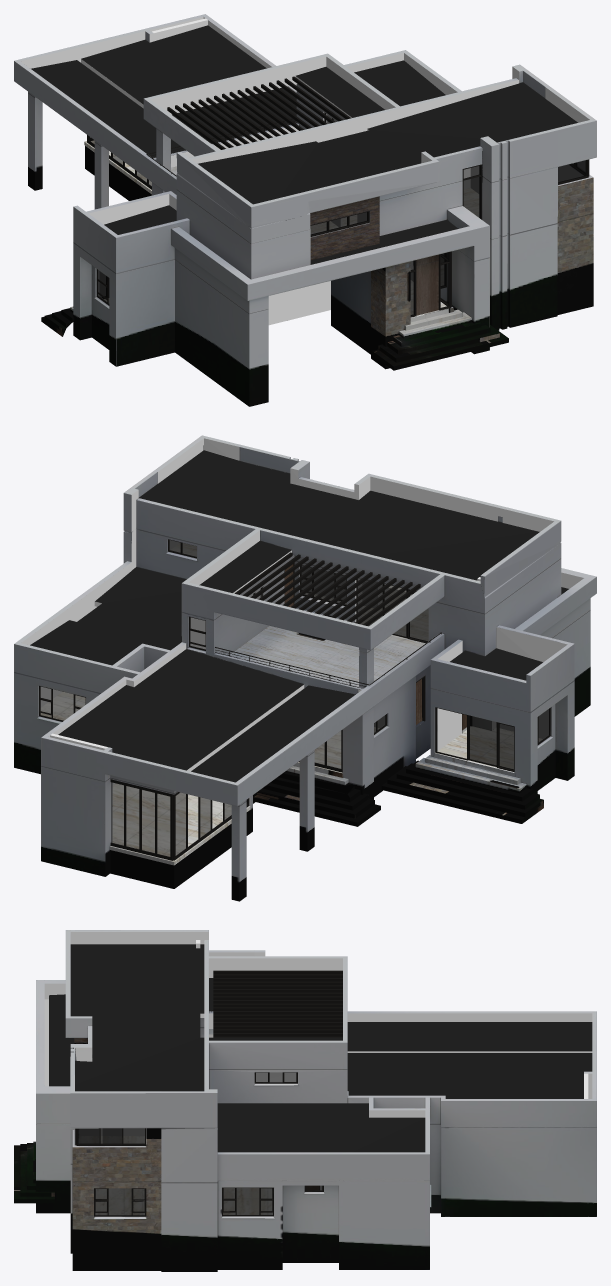
Rendered from house opt-1.glb.
The picture shows the model from 3 angles, top to bottom: view 1: azimuth 30°, elevation 25°; view 2: azimuth 150°, elevation 25°; view 3: azimuth 270°, elevation 25°; orthographic projection. The views are drawn at different scales.
Visible parts, largest first — view 1: main Plaster_1.007, main Roofing _Sheets.004, main Roofing _Sheets.005, main Plaster_1.008, main Plaster_1.003, main Plaster_2.006, main Plaster_Int.012, main Plaster_3.005, main Plaster_Int.011, main Frame.008, main Ceramic.004, main Plaster_2.007 (+12 smaller); view 2: main Plaster_1.007, main Roofing _Sheets.004, main Roofing _Sheets.005, main Plaster_1.008, main Plaster_1.003, main Plaster_2.006, main Ceramic.004, main Ceramic int.002, main Glass.006, main Plaster_Int.011, main Ceramic.007, main Frame.008 (+7 smaller); view 3: main Plaster_1.003, main Roofing _Sheets.004, main Plaster_1.007, main Roofing _Sheets.005, main Plaster_1.008, main Frame.008, main Plaster_3.005, main Plaster_Int.011, main Plaster_Int.012, main Plaster_3.006, main Glass.006, main Ceramic int.002 (+6 smaller).
Boxes of the visible parts, <box> form: main Plaster_1.007: <box>14,14,596,300</box>; main Roofing _Sheets.004: <box>31,25,457,276</box>; main Roofing _Sheets.005: <box>198,67,577,204</box>; main Plaster_1.008: <box>143,53,596,243</box>; main Plaster_1.003: <box>73,182,557,366</box>; main Plaster_2.006: <box>28,93,452,406</box>; main Plaster_Int.012: <box>151,56,589,163</box>; main Plaster_3.005: <box>371,213,593,369</box>; main Plaster_Int.011: <box>21,17,582,226</box>; main Frame.008: <box>167,76,481,180</box>; main Ceramic.004: <box>41,306,508,370</box>; main Plaster_2.007: <box>28,92,462,313</box>; main Plaster_1.007: <box>14,529,596,806</box>; main Roofing _Sheets.004: <box>30,567,568,782</box>; main Roofing _Sheets.005: <box>139,450,539,592</box>; main Plaster_1.008: <box>123,435,561,652</box>; main Plaster_1.003: <box>14,672,574,876</box>; main Plaster_2.006: <box>37,610,590,901</box>; main Ceramic.004: <box>253,753,543,826</box>; main Ceramic int.002: <box>40,692,542,865</box>; main Glass.006: <box>40,687,549,856</box>; main Plaster_Int.011: <box>21,529,583,750</box>; main Ceramic.007: <box>230,607,425,686</box>; main Frame.008: <box>234,552,420,625</box>; main Plaster_1.003: <box>36,1124,596,1271</box>; main Roofing _Sheets.004: <box>49,978,592,1152</box>; main Plaster_1.007: <box>36,950,596,1182</box>; main Roofing _Sheets.005: <box>70,944,342,1091</box>; main Plaster_1.008: <box>65,930,347,1128</box>; main Frame.008: <box>213,970,342,1037</box>; main Plaster_3.005: <box>72,1181,161,1270</box>; main Plaster_Int.011: <box>44,952,592,1143</box>; main Plaster_Int.012: <box>70,932,342,1061</box>; main Plaster_3.006: <box>72,1128,161,1181</box>; main Glass.006: <box>95,1185,322,1215</box>; main Ceramic int.002: <box>95,1188,272,1214</box>.
Size of the model in its own units: 22.2 by 9.1 by 26.9.
Materials: 8 (3 with a texture image).
